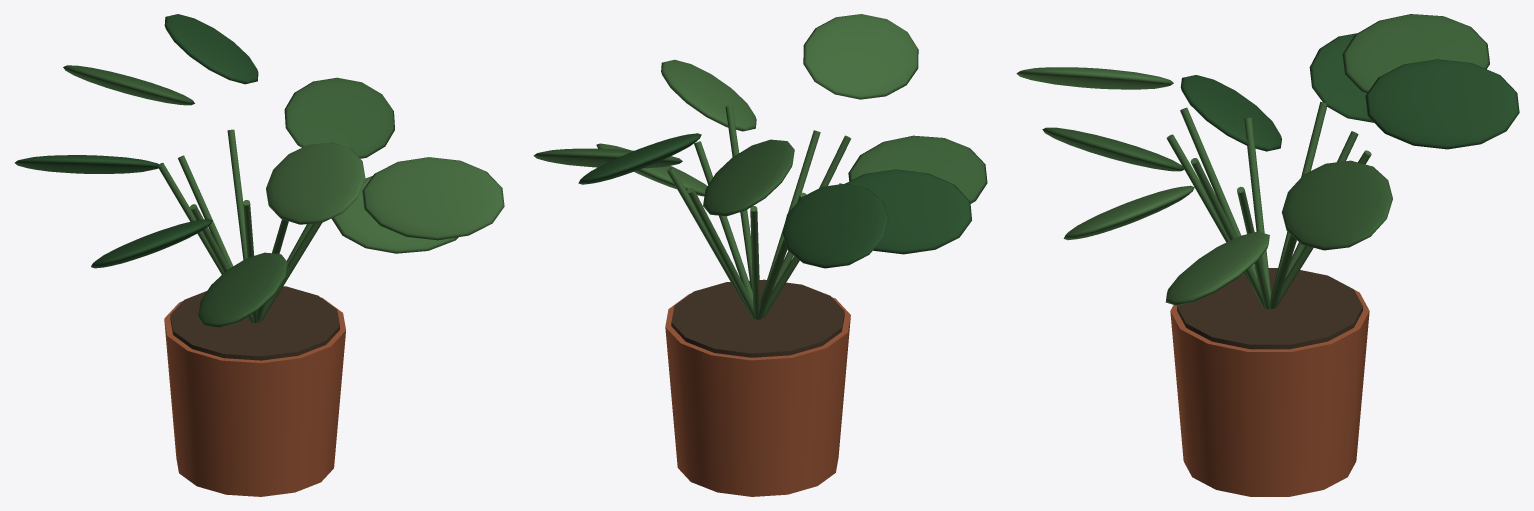
The model's file is costela-adao.glb.
3 views of the same model, side by side, from view 1: azimuth 30°, elevation 25°; view 2: azimuth 150°, elevation 25°; view 3: azimuth 270°, elevation 25° (orthographic). The views are drawn at different scales.
Visible parts, largest first — view 1: costela-adao_malha; view 2: costela-adao_malha; view 3: costela-adao_malha.
Boxes of the visible parts, x1=… form: costela-adao_malha: x1=15, y1=14, x2=504, y2=496; costela-adao_malha: x1=533, y1=14, x2=987, y2=496; costela-adao_malha: x1=1016, y1=14, x2=1519, y2=496.
Bounding box in the file's own units: 1.38 × 1.33 × 1.51.
